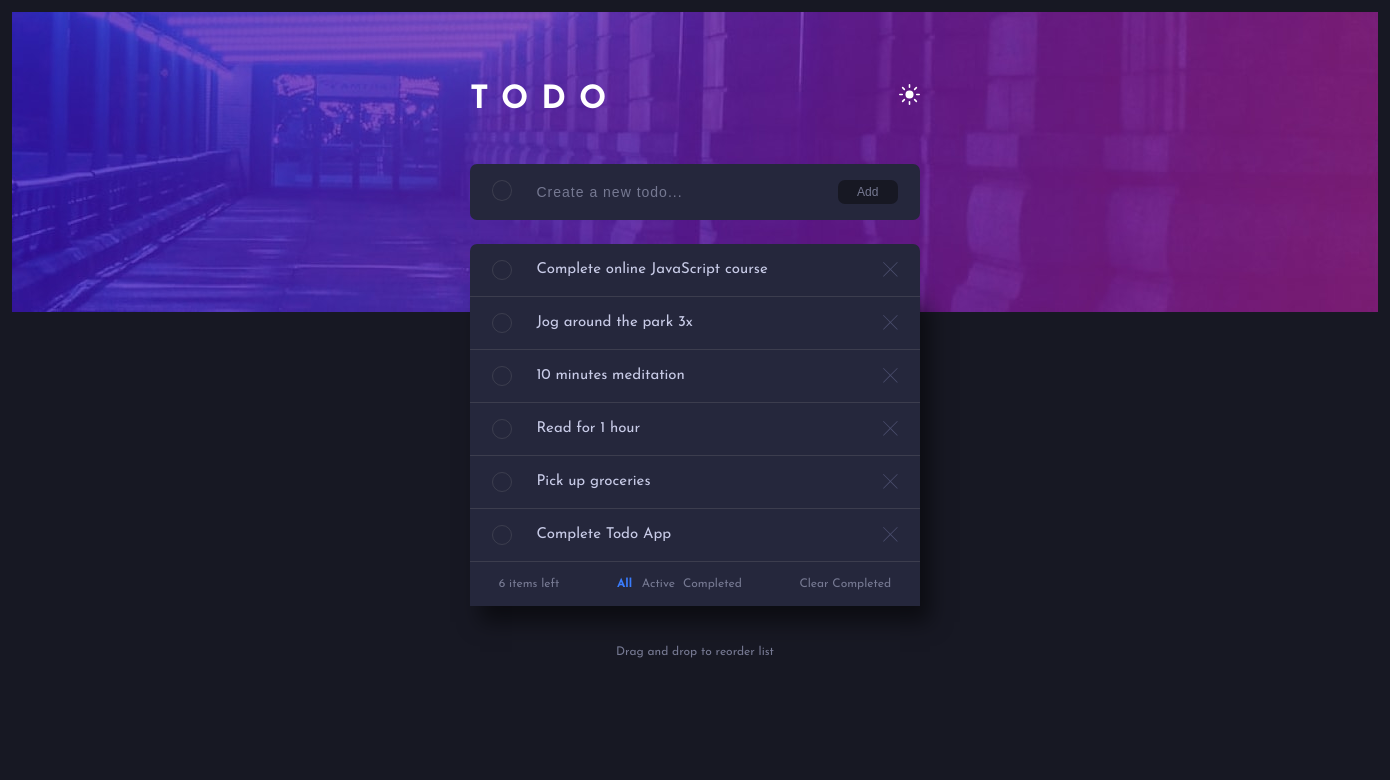
Scenario: deleting a todo item › clicking on a todo item's cross icon should delete it from the todos list
Expected: the text with test id "todo-item" reads "Complete Todo App", [536,527,671,542]
Step 1. Click the 6th element with test id "delete-btn" → (891, 535), box [883,527,898,542]
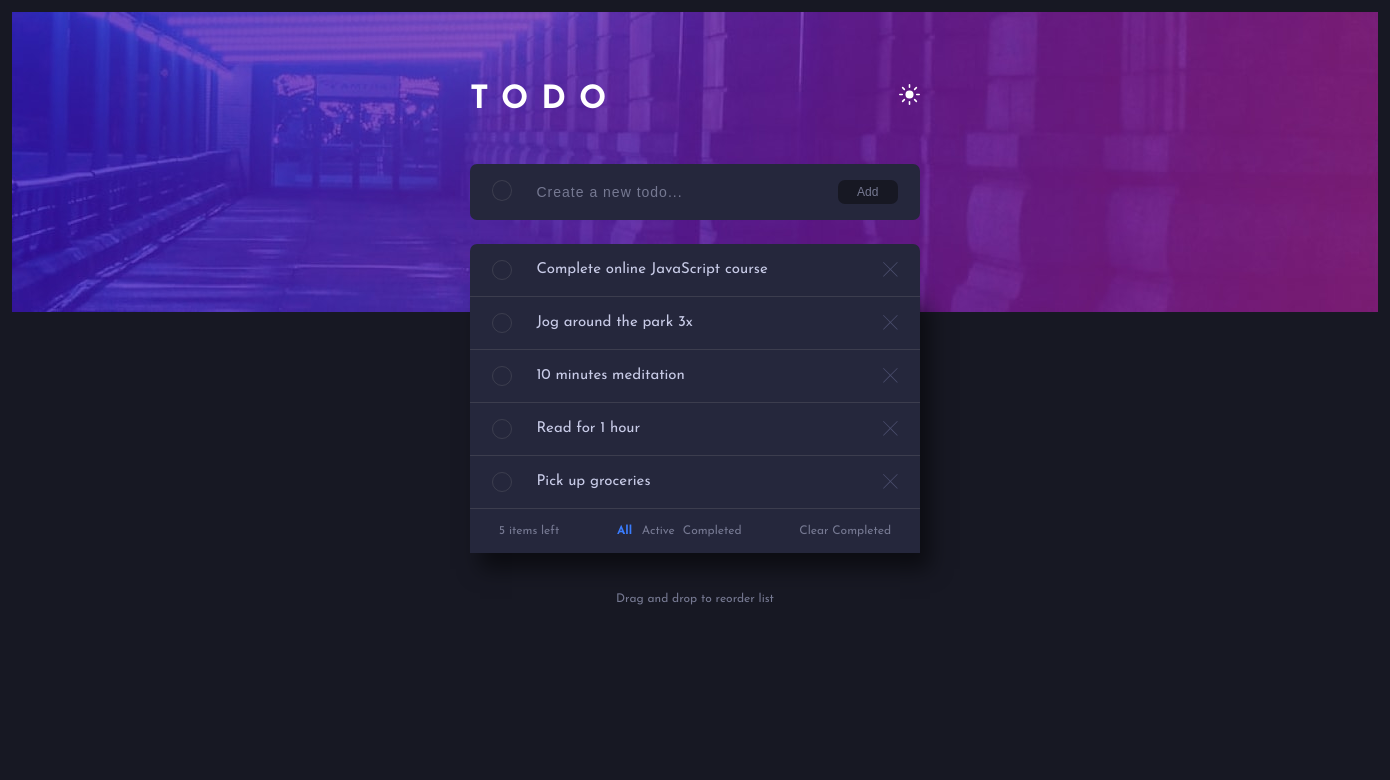
Expected: the text with test id "todo-item" reads "10 minutes meditation", [536,368,684,383]
Now the text "Complete Todo App" is gone
Step 2. Click the 3rd element with test id "delete-btn" → (891, 376), box [883,368,898,383]
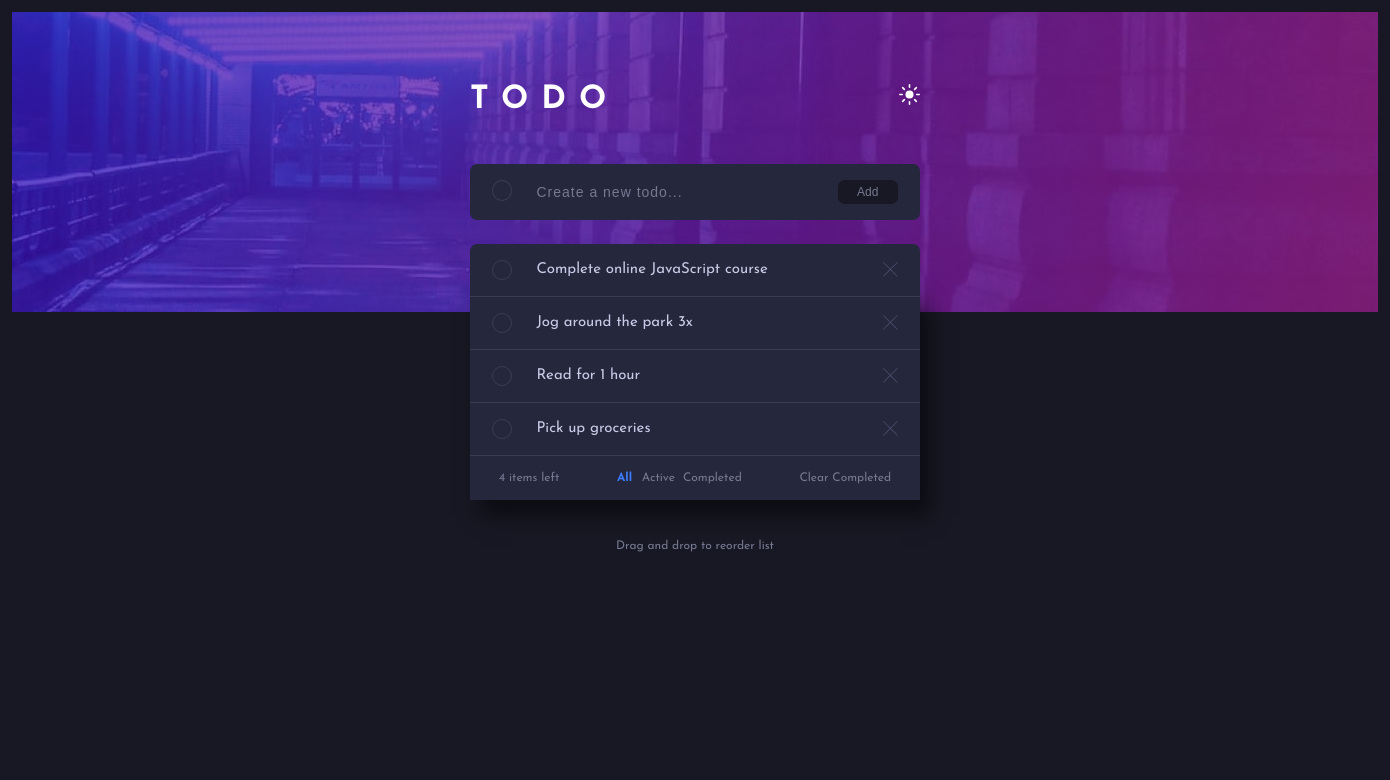
Now the text "10 minutes meditation" is gone
